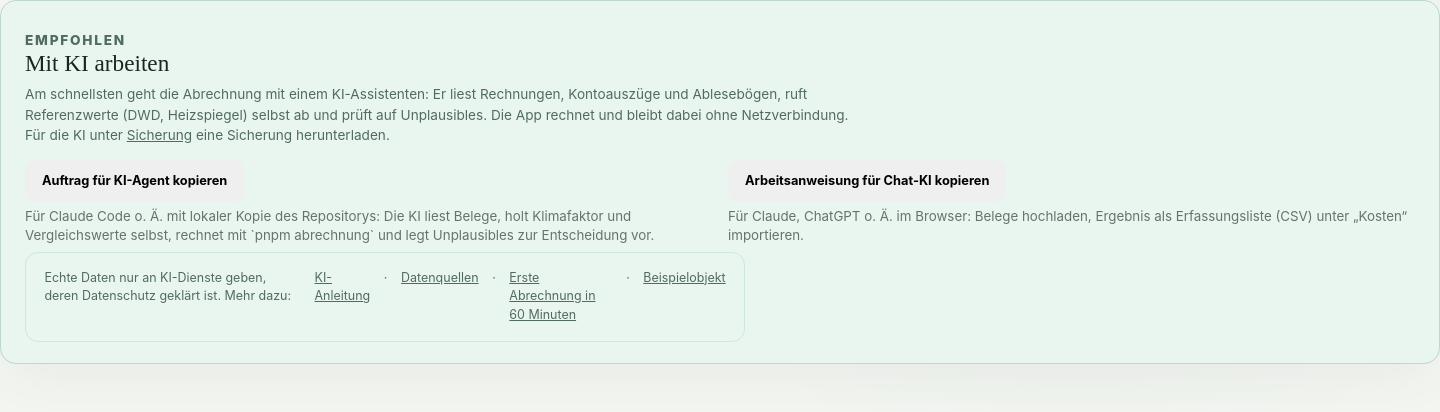
Scenario: Mit KI arbeiten › kopiert den Auftrag in die Zwischenablage
This screenshot has width=1440, height=412.
expect the heading "Mit KI arbeiten" is shown: met, box x1=25 y1=50 x2=169 y2=76
Click the button "Auftrag für KI-Agent kopieren" at point(135, 181), box x1=25 y1=160 x2=244 y2=202
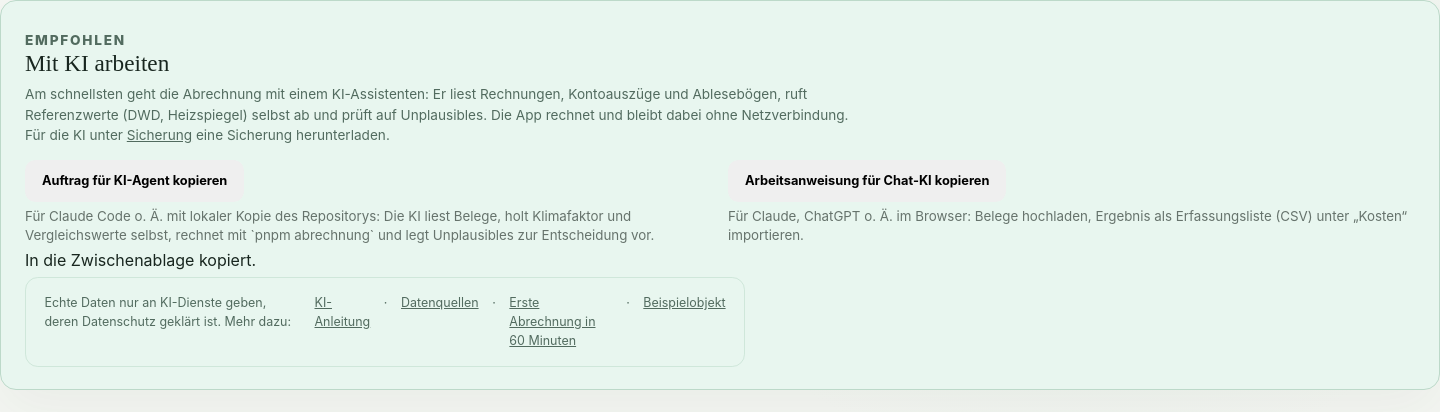
expect the message reads "In die Zwischenablage kopiert.": met, box x1=25 y1=250 x2=256 y2=270
